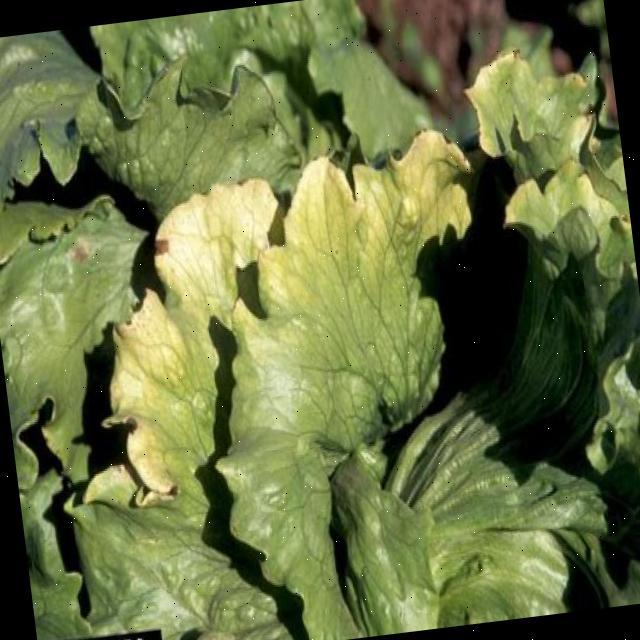Lettuce Mosaic Virus: (81, 130, 518, 631)
